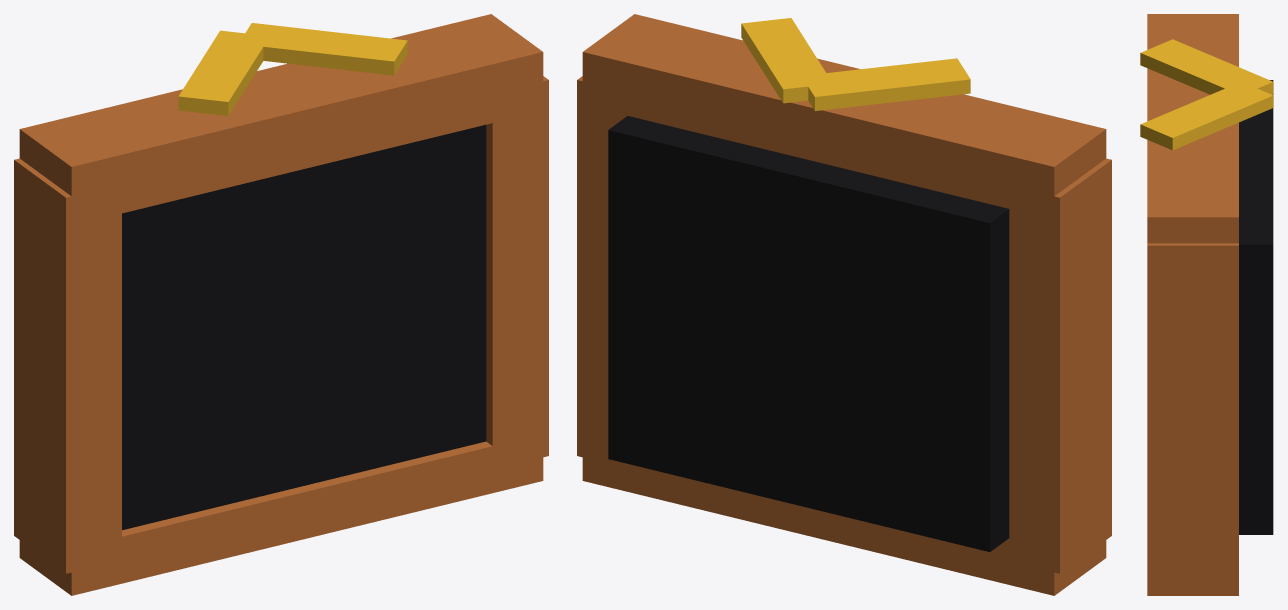
The model's file is port_in.obj.
3 views of the same model, side by side, from view 1: azimuth 30°, elevation 25°; view 2: azimuth 150°, elevation 25°; view 3: azimuth 270°, elevation 25° (orthographic). The views are drawn at different scales.
Visible parts, largest first — view 1: Port; view 2: Port; view 3: Port.
Part boxes in pixels (x1=…): Port: x1=14, y1=14, x2=548, y2=595; Port: x1=577, y1=14, x2=1111, y2=595; Port: x1=1140, y1=14, x2=1273, y2=595.
Size of the model in its own units: 0.43 by 0.391 by 0.1162.
